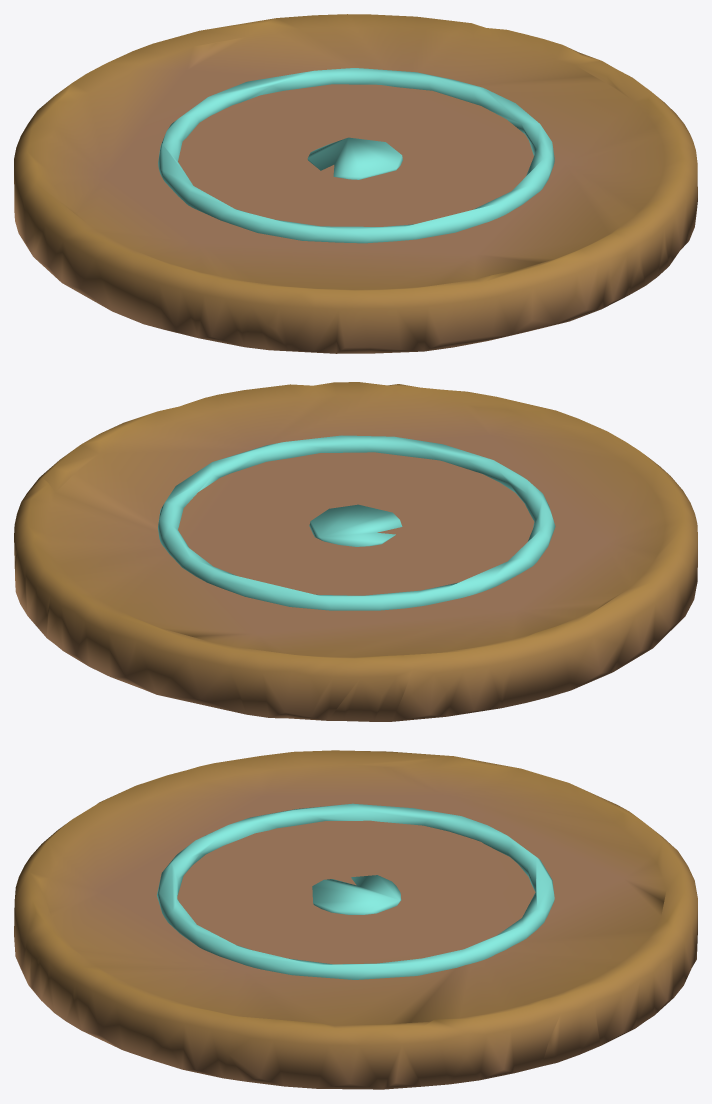
File: plate_heavy.glb
3 views of the same model, one above another, from view 1: azimuth 30°, elevation 25°; view 2: azimuth 150°, elevation 25°; view 3: azimuth 270°, elevation 25° (orthographic).
Visible parts, largest first — view 1: Placa, Glifo; view 2: Placa, Glifo; view 3: Placa, Glifo.
Part boxes in pixels (x1=…): Placa: x1=14, y1=14, x2=697, y2=353; Glifo: x1=158, y1=68, x2=554, y2=243; Placa: x1=14, y1=382, x2=697, y2=721; Glifo: x1=158, y1=435, x2=555, y2=610; Placa: x1=14, y1=750, x2=697, y2=1089; Glifo: x1=157, y1=803, x2=554, y2=979.
Size of the model in its own units: 2.9 by 0.2935 by 2.9.
